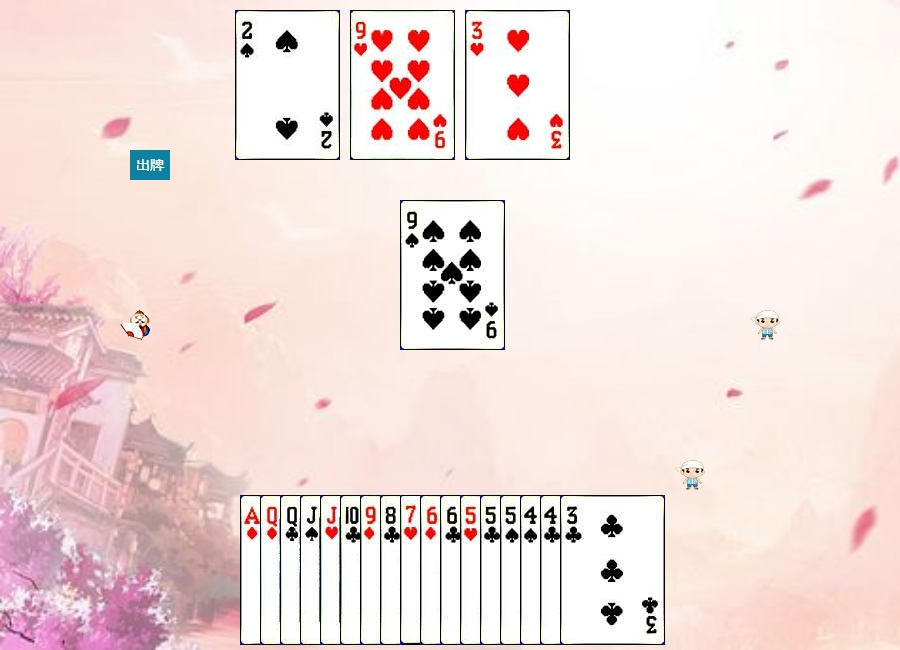10~2: (340, 495, 445, 645)
11~3: (320, 495, 425, 645)
11~4: (300, 495, 405, 645)
12~1: (260, 495, 365, 645)
12~2: (280, 495, 385, 645)
14~1: (240, 495, 345, 645)
15~4: (235, 10, 340, 160)
3~2: (560, 495, 665, 645)
3~3: (465, 10, 570, 160)
4~2: (540, 495, 645, 645)
4~4: (520, 495, 625, 645)
5~2: (480, 495, 585, 645)
5~3: (460, 495, 565, 645)
5~4: (500, 495, 605, 645)
6~1: (420, 495, 525, 645)
6~2: (440, 495, 545, 645)
7~3: (400, 495, 505, 645)
8~2: (380, 495, 485, 645)
9~1: (360, 495, 465, 645)
9~3: (350, 10, 455, 160)
9~4: (400, 200, 505, 350)
